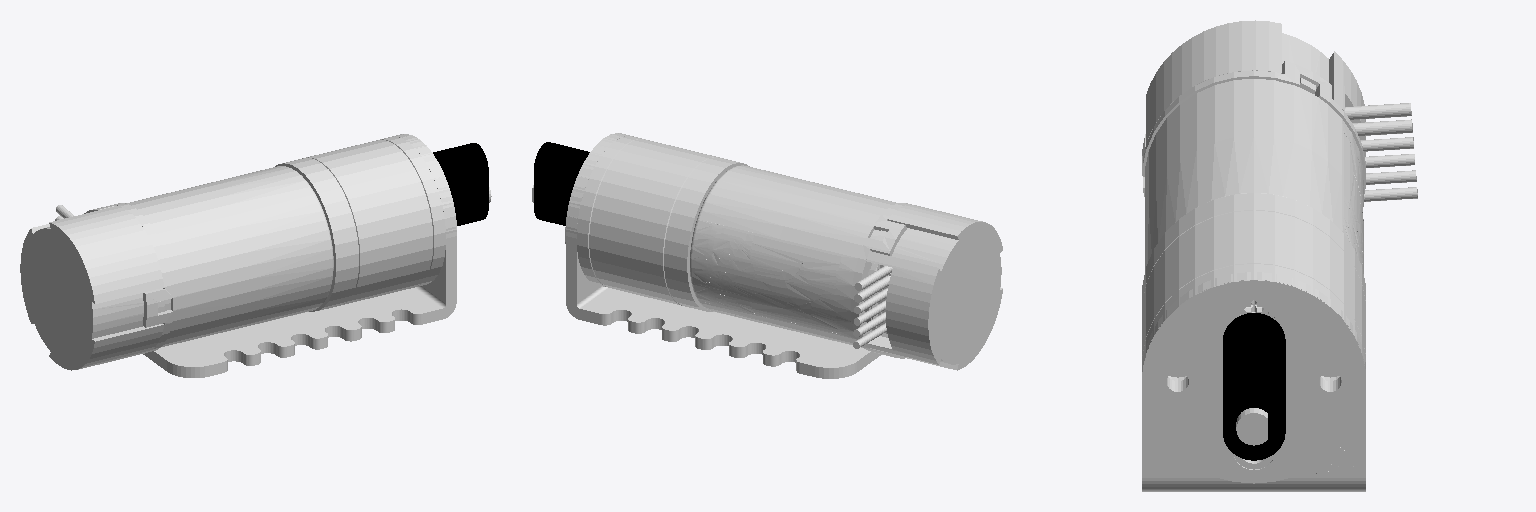
URDF robot description (actuator):
<?xml version="1.0"?>
<robot name="actuator">

    <!--Colors-->
    <material name="white_gray">
        <color rgba="0.9 0.9 0.9 1.0"/>
    </material>
    <material name="black">
        <color rgba="0.0 0.0 0.0 1.0"/>
    </material>
    
    <!--siempre poner base_link aunque no exista (dummy base link)-->
    <link name="base_link">     
    </link>

    <joint name="base_link_motor" type="fixed">
        <origin xyz="0.0 0.0 0.0" rpy="0.0 0.0 0.0"/>
        <parent link="base_link"/>
        <child link="motor"/>
        <axis xyz="0.0 0.0 0.0"/>
        <limit lower="0.0" upper="0.0" effort="0.0" velocity="0.0"/>
    </joint>
    <!--TRANSMISSION-->
    

    <link name="motor">
        <visual>
            <geometry>
                <mesh filename="package://third_pkg/meshes/Motor_Soporte.stl" scale="1.0 1.0 1.0"/>
            </geometry>
            <material name="white_gray"/>
            <origin xyz="0 0 0" rpy="0 0 0"/>
        </visual>

        <collision>
            <geometry>
                <mesh filename="package://third_pkg/meshes/Motor_Soporte.stl" scale="1.0 1.0 1.0"/>
            </geometry>
            <!--TODO:origin-->
            <origin xyz="0 0 0" rpy="0 0 0"/>
        </collision>

        <inertial>
            <!--origin obtenido de blender-->
            <origin xyz="-0.003295 0.000022 0.013549" rpy="0.0 0.0 0.0"/>
            <!--mass and inertia obtenido de inventor-->
            <mass value="0.03225943"/>
            <inertia ixx="0.00001302" ixy="0.0" ixz="0.00000002" iyy="0.00001276" iyz="0.00000019" izz="0.00000278"/>
        </inertial>
    </link>

    <joint name="motor_end_effector" type="revolute">
        <!--TODO: cambiar origin (debe ser el del piquito del motor), axis and limit-->
        <origin xyz="0.03225 0.0 0.0135" rpy="0.0 0.0 0.0"/>
        <parent link="motor"/>
        <child link="end_effector"/>
        <axis xyz="1.0 0.0 0.0"/>
        <!--Angulo de giro del joint rads-->
        <limit lower="-3.14" upper="3.14" effort="2.1" velocity="10.471975512"/>
    </joint>
    <!--TRANSMISSION-->
    <transmission name = "trans_motor_end_effector">
        <type>transmission_interface/SimpleTransmission</type>
        <joint name="motor_end_effector">
            <hardwareInterface>hardware_interface/EffortJointInterface
            </hardwareInterface>
        </joint>
        <actuator name="motor_end_effector">
            <hardwareInterface>hardware_interface/EffortJointInterface
            </hardwareInterface>
            <mechanicalReduction>1</mechanicalReduction>
        </actuator>
    </transmission>

    <link name="end_effector">
        <visual>
            <geometry>
                <mesh filename="package://third_pkg/meshes/End_Effector.stl" scale="1.0 1.0 1.0"/>
            </geometry>
            <material name="black"/>
            <origin xyz="0 0 0" rpy="0 0 0"/>
        </visual>

        <collision>
            <geometry>
                <mesh filename="package://third_pkg/meshes/End_Effector.stl" scale="1.0 1.0 1.0"/>
            </geometry>
            <!--TODO:origin-->
            <origin xyz="0 0 0" rpy="0 0 0"/>
        </collision>

        <inertial>
            <!--origin obtenido de blender-->
            <!--antes tenía (xyz) y = 0.38215 -->
            <!--origin xyz="0.0 0.0038215 0.0" rpy="0.0 0.0 0.0"-->
            <origin xyz="0.0 0.0038215 0.0" rpy="0.0 0.0 0.0"/>
            <!--mass and inertia obtenido de inventor-->
            <mass value="0.00071418"/>
            <!--ixx="0.00000001" ixy="0.00000000" ixz="0.00000000" iyy="0.00000001" iyz="0.00000000" izz="0.00000001"-->
            <inertia ixx="0.00000001" ixy="0.00000000" ixz="0.00000000" iyy="0.00000001" iyz="0.00000000" izz="0.00000001"/>
        </inertial>
    </link>
    
    <gazebo>
        <plugin name = "gazebo_ros_control" filename = "libgazebo_ros_control.so">
            <robotNamespace>/arm</robotNamespace>
            <robotSimType>gazebo_ros_control/DefaultRobotHWSim</robotSimType>
            <legacyModeNS>true</legacyModeNS>
        </plugin>
    </gazebo>

</robot>

--- What the picture shows (computed from the rendered views, not written in the file) ---
3 views of the same robot in one strip: view 1: azimuth 30°, elevation 25°; view 2: azimuth 150°, elevation 25°; view 3: azimuth 270°, elevation 25° (orthographic).
Model actuator with 3 links and 2 joints (1 revolute, 1 fixed), rooted at base_link, posed every joint at zero.
Visible links, largest first — view 1: motor, end_effector; view 2: motor, end_effector; view 3: motor, end_effector.
Link boxes in pixels (x1,y1,x2,y2): motor: (20, 134, 491, 377); end_effector: (433, 143, 488, 225); motor: (532, 133, 1002, 378); end_effector: (534, 142, 589, 225); motor: (1142, 20, 1417, 491); end_effector: (1223, 313, 1285, 460).
Bounding box of the posed robot: 0.0809 × 0.0308 × 0.027 m (x, y, z).
Meshes: 2 distinct files referenced, 2 mesh visuals loaded (2 binary STL).